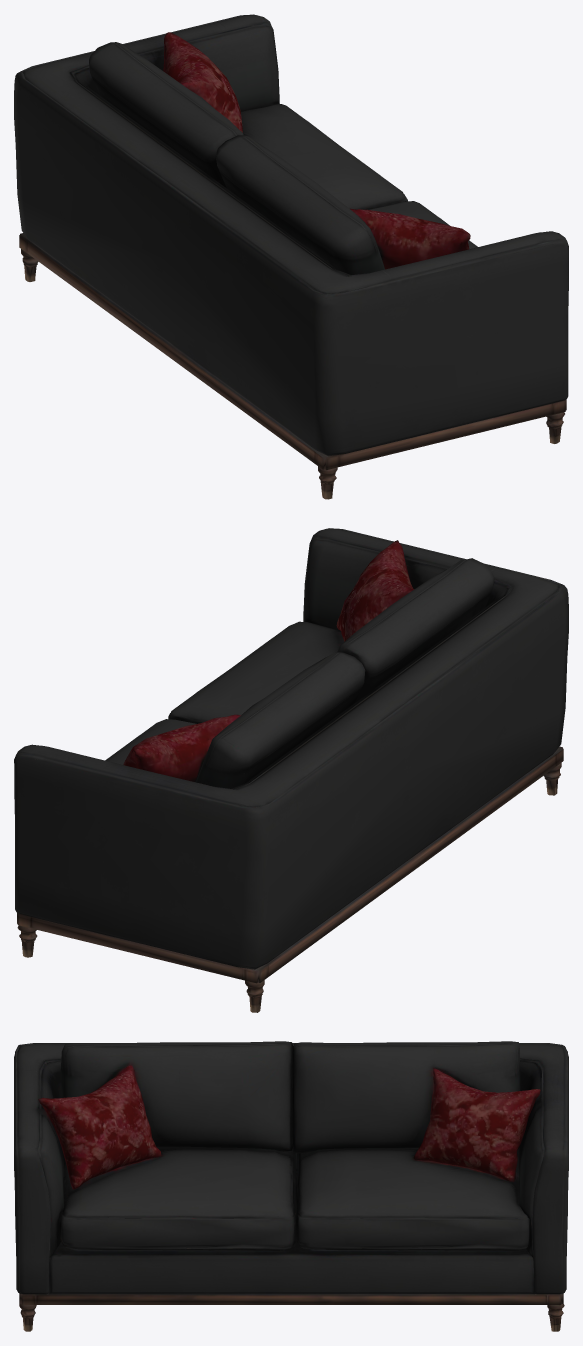
3 views of the same model, one above another, from view 1: azimuth 30°, elevation 25°; view 2: azimuth 150°, elevation 25°; view 3: azimuth 270°, elevation 25° (orthographic). The views are drawn at different scales.
Visible parts, largest first — view 1: tripo_node_16f8e58b-b67c-4b7c-9b5c-bcbb194e71ad; view 2: tripo_node_16f8e58b-b67c-4b7c-9b5c-bcbb194e71ad; view 3: tripo_node_16f8e58b-b67c-4b7c-9b5c-bcbb194e71ad.
Part boxes in pixels (x1,y1,x2,y2): tripo_node_16f8e58b-b67c-4b7c-9b5c-bcbb194e71ad: [14, 14, 568, 499]; tripo_node_16f8e58b-b67c-4b7c-9b5c-bcbb194e71ad: [14, 528, 568, 1012]; tripo_node_16f8e58b-b67c-4b7c-9b5c-bcbb194e71ad: [14, 1041, 568, 1331].
Size of the model in its own units: 0.4668 by 0.4238 by 0.998.
1 material, 1 textured.
